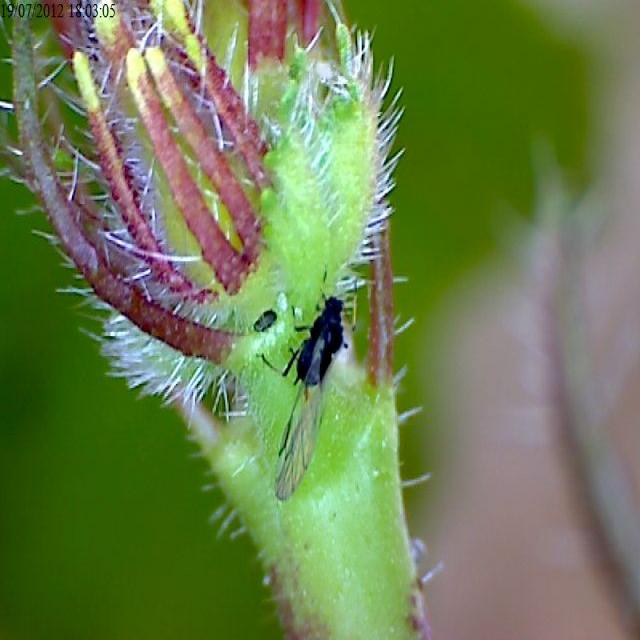Aphid-Grown-have wings-: (268, 259, 364, 510)
